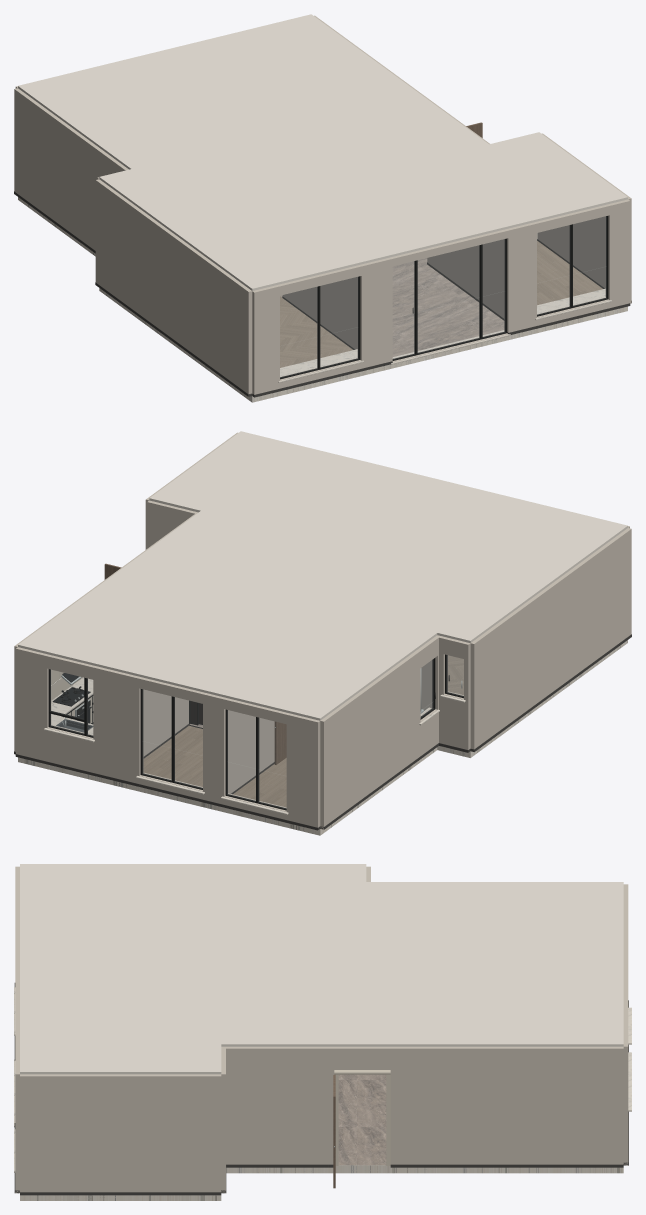
File: apartment-v06.glb
3 views of the same model, one above another, from view 1: azimuth 30°, elevation 25°; view 2: azimuth 150°, elevation 25°; view 3: azimuth 270°, elevation 25° (orthographic). The views are drawn at different scales.
Visible parts, largest first — view 1: Ceiling_main, wall_west_south_0_0_upper, Continuous_public_stone, wall_west_south_0_0_lower, wall_west_north_0_0_upper, wall_west_north_0_0_lower, Living_south_glass_upper.001, Apartment_floor_slab, floor_master, Living_south_glass_lower.001, wall_living_se_2_0_lower, wall_master_living_4_0_lower (+33 smaller); view 2: Ceiling_main, wall_west_south_0_0_upper, wall_west_south_0_0_lower, wall_west_north_0_0_upper, wall_west_north_0_0_lower, wall_north_4_0_upper, Apartment_floor_slab, floor_xroom, wall_north_0_0_upper, wall_north_6_0_upper, wall_north_4_0_lower, wall_northwest_x_0_0_lower (+27 smaller); view 3: Ceiling_main, wall_east_north_0_0_upper, wall_east_south_0_0_upper, wall_east_north_0_0_lower, wall_east_south_0_0_lower, wall_east_elevator_0_0_upper, wall_east_elevator_0_0_lower, Continuous_public_stone, Apartment_floor_slab, wall_east_north_1_1_upper, skirting_east_north_0, skirting_east_south_0 (+2 smaller).
Part boxes in pixels (<box>): Ceiling_main: <box>18,14,627,290</box>; wall_west_south_0_0_upper: <box>95,179,252,353</box>; Continuous_public_stone: <box>280,258,568,357</box>; wall_west_south_0_0_lower: <box>95,242,252,393</box>; wall_west_north_0_0_upper: <box>14,88,111,209</box>; wall_west_north_0_0_lower: <box>14,151,95,250</box>; Living_south_glass_upper.001: <box>418,246,479,311</box>; Apartment_floor_slab: <box>18,197,627,402</box>; floor_master: <box>280,296,352,367</box>; Living_south_glass_lower.001: <box>418,298,479,352</box>; wall_living_se_2_0_lower: <box>427,249,504,318</box>; wall_master_living_4_0_lower: <box>282,285,357,349</box>; Ceiling_main: <box>18,431,627,720</box>; wall_west_south_0_0_upper: <box>470,528,631,707</box>; wall_west_south_0_0_lower: <box>470,593,631,749</box>; wall_west_north_0_0_upper: <box>320,650,420,785</box>; wall_west_north_0_0_lower: <box>320,715,420,829</box>; wall_north_4_0_upper: <box>93,666,143,742</box>; Apartment_floor_slab: <box>18,640,627,835</box>; floor_xroom: <box>143,725,202,786</box>; wall_north_0_0_upper: <box>286,713,320,785</box>; wall_north_6_0_upper: <box>16,647,51,719</box>; wall_north_4_0_lower: <box>93,731,143,783</box>; wall_northwest_x_0_0_lower: <box>228,721,274,793</box>; Ceiling_main: <box>20,864,623,1074</box>; wall_east_north_0_0_upper: <box>390,1046,623,1118</box>; wall_east_south_0_0_upper: <box>20,1074,221,1146</box>; wall_east_north_0_0_lower: <box>390,1118,623,1164</box>; wall_east_south_0_0_lower: <box>20,1146,221,1192</box>; wall_east_elevator_0_0_upper: <box>221,1046,328,1118</box>; wall_east_elevator_0_0_lower: <box>226,1118,328,1164</box>; Continuous_public_stone: <box>338,1074,386,1165</box>; Apartment_floor_slab: <box>20,1165,623,1200</box>; wall_east_north_1_1_upper: <box>334,1046,390,1069</box>; skirting_east_north_0: <box>390,1164,623,1167</box>; skirting_east_south_0: <box>20,1192,221,1195</box>.
Size of the model in its own units: 10.72 by 3.04 by 13.2.
Materials: 30 (14 with a texture image).
